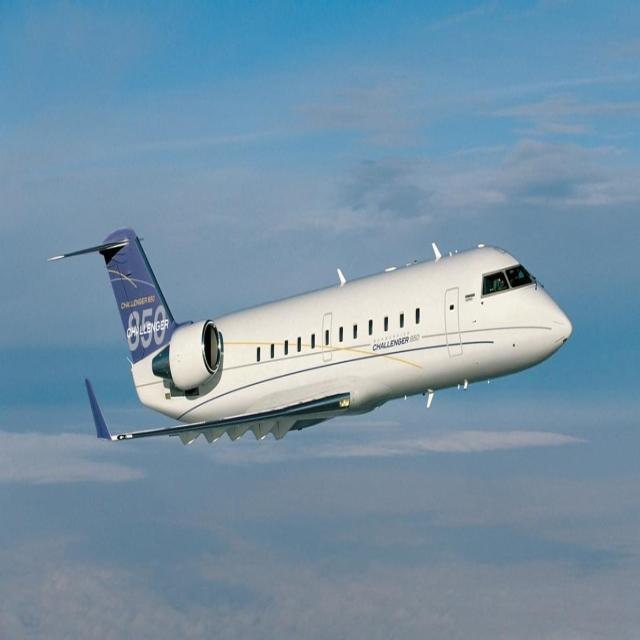jet: (29, 138, 599, 523)
